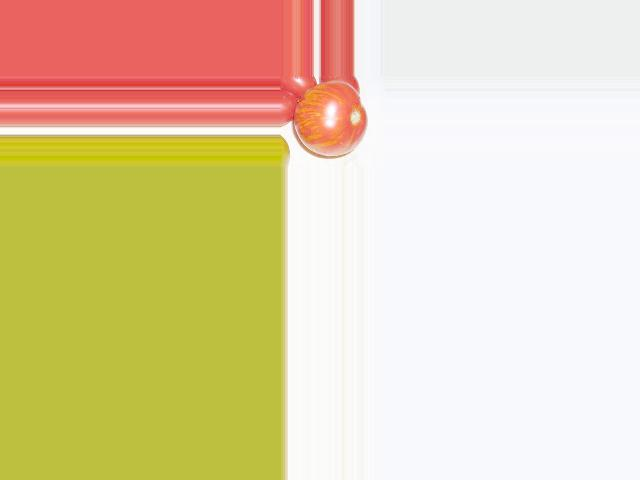tomato: (293, 80, 368, 156)
